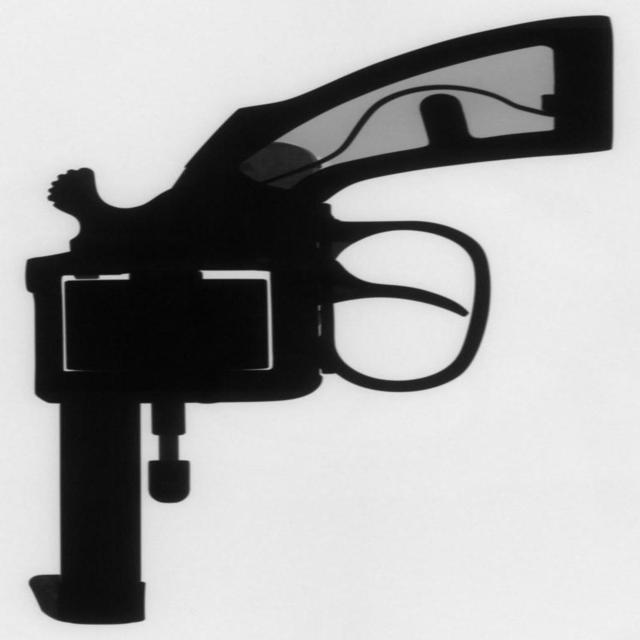gun: (31, 9, 617, 627)
